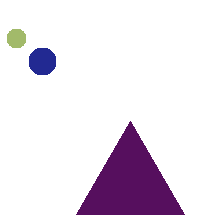circle: (29, 48, 55, 74), (7, 29, 25, 47)
triangle: (76, 121, 184, 214)
